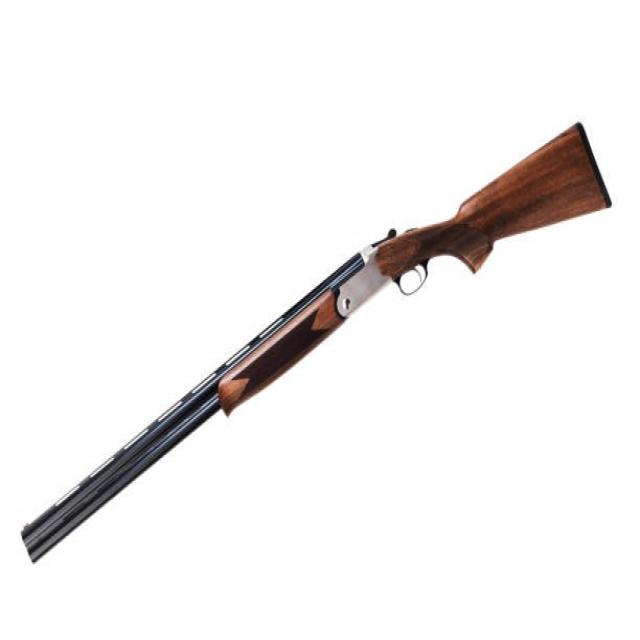rifle: (14, 121, 618, 581)
